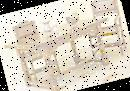Mesa: (4, 12, 122, 90)
Silla: (11, 15, 63, 87), (79, 0, 129, 62)
